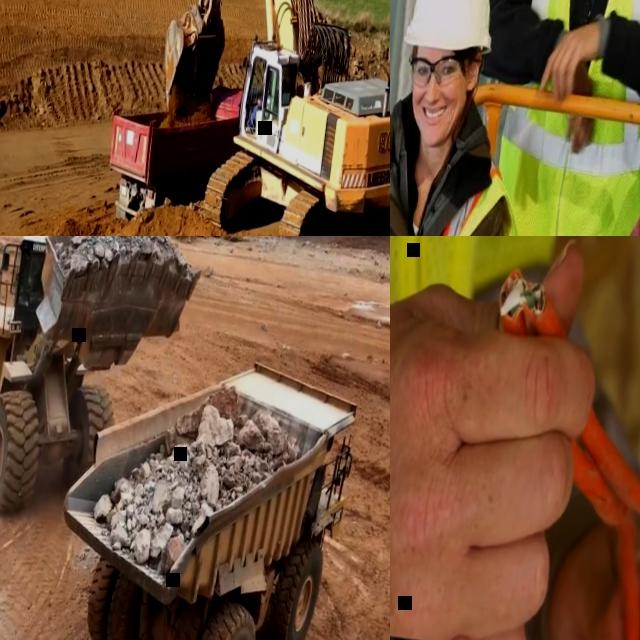Hardhat: (401, 0, 502, 59)
NO-Mask: (410, 94, 462, 149)
Person: (390, 236, 640, 640), (434, 0, 640, 236), (390, 0, 540, 236), (540, 0, 640, 236), (247, 89, 273, 130)
Safety Vest: (480, 0, 640, 236), (390, 236, 568, 406), (390, 142, 527, 236)
machinery: (32, 330, 366, 640), (0, 236, 210, 539), (142, 0, 390, 236), (101, 72, 247, 230)
